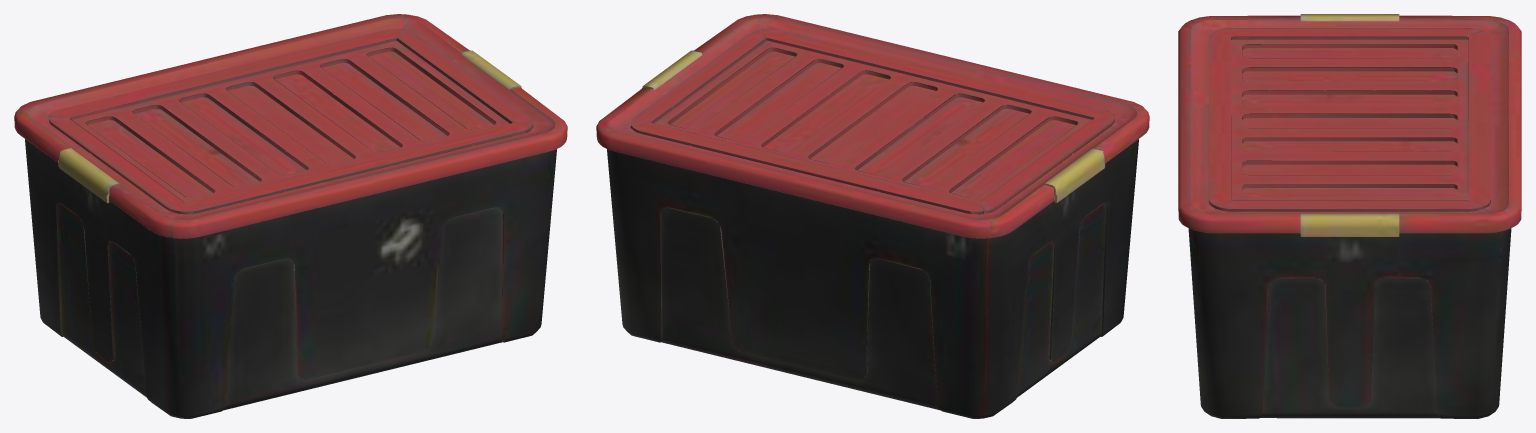
Rendered from pote_plastico.glb.
3 renders of one model, left to right at view 1: azimuth 30°, elevation 25°; view 2: azimuth 150°, elevation 25°; view 3: azimuth 270°, elevation 25°, orthographic. The views are drawn at different scales.
Visible parts, largest first — view 1: Malha; view 2: Malha; view 3: Malha.
Boxes of the visible parts, <box> form: Malha: <box>14,14,567,418</box>; Malha: <box>596,14,1149,418</box>; Malha: <box>1178,14,1521,418</box>.
Size of the model in its own units: 0.16 by 0.0768 by 0.1118.
1 material, 1 textured.
